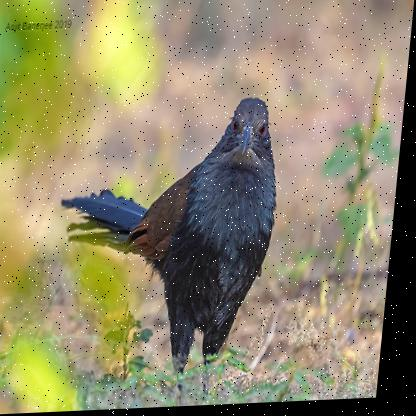Burung: (50, 97, 288, 407)
